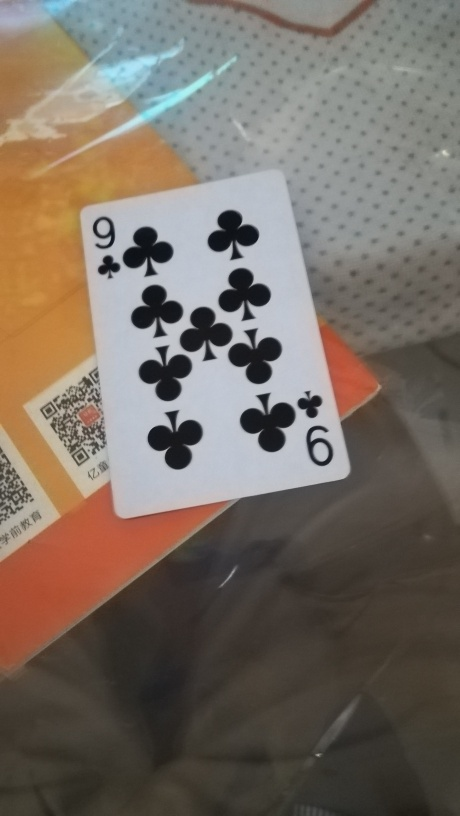mh 9: (79, 164, 355, 515)
